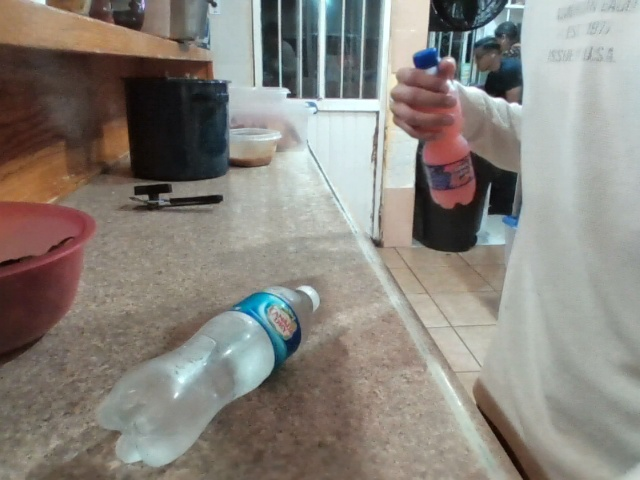botella: (56, 290, 364, 463), (375, 54, 515, 232)
